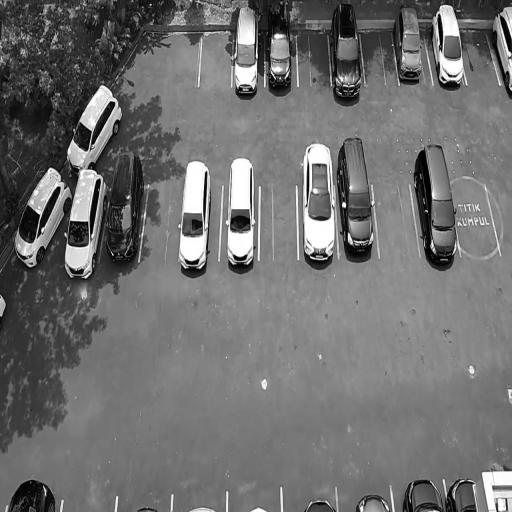Car: (9, 156, 74, 279), (410, 136, 462, 279), (59, 78, 128, 184), (335, 129, 380, 261), (61, 170, 110, 286), (101, 148, 147, 270), (301, 138, 341, 275), (177, 154, 214, 278), (225, 153, 257, 282), (429, 2, 467, 92), (265, 5, 294, 102), (489, 2, 511, 102), (5, 479, 56, 512), (401, 477, 444, 512), (448, 476, 481, 512), (353, 488, 390, 512), (300, 498, 338, 512)
Space Available: (373, 178, 419, 260), (453, 182, 501, 255), (141, 184, 183, 264), (259, 184, 299, 260), (360, 28, 399, 86), (198, 29, 235, 89), (460, 26, 499, 82), (297, 30, 332, 86), (59, 492, 117, 512)
